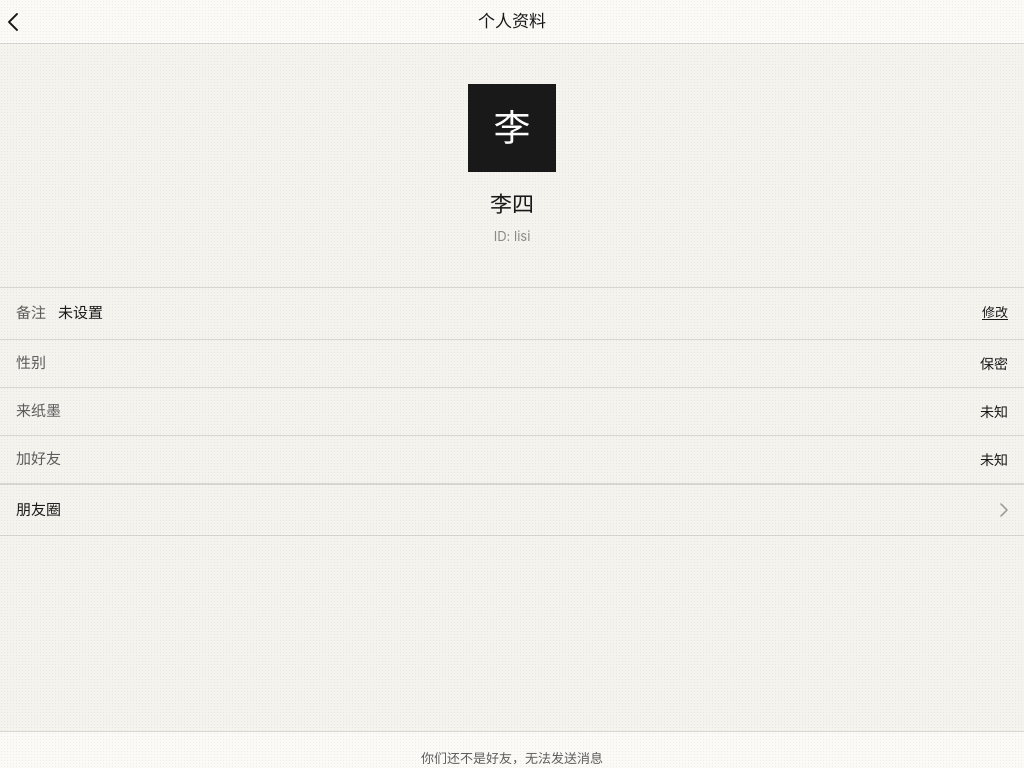
Test: FriendProfile 好友资料页 › 有应用内历史时返回按钮回到上一页(通讯录)
Check: the heading "李四" is shown, box [490,188,534,221]
Click the button named "返回" at (26, 22), box [8,4,44,40]
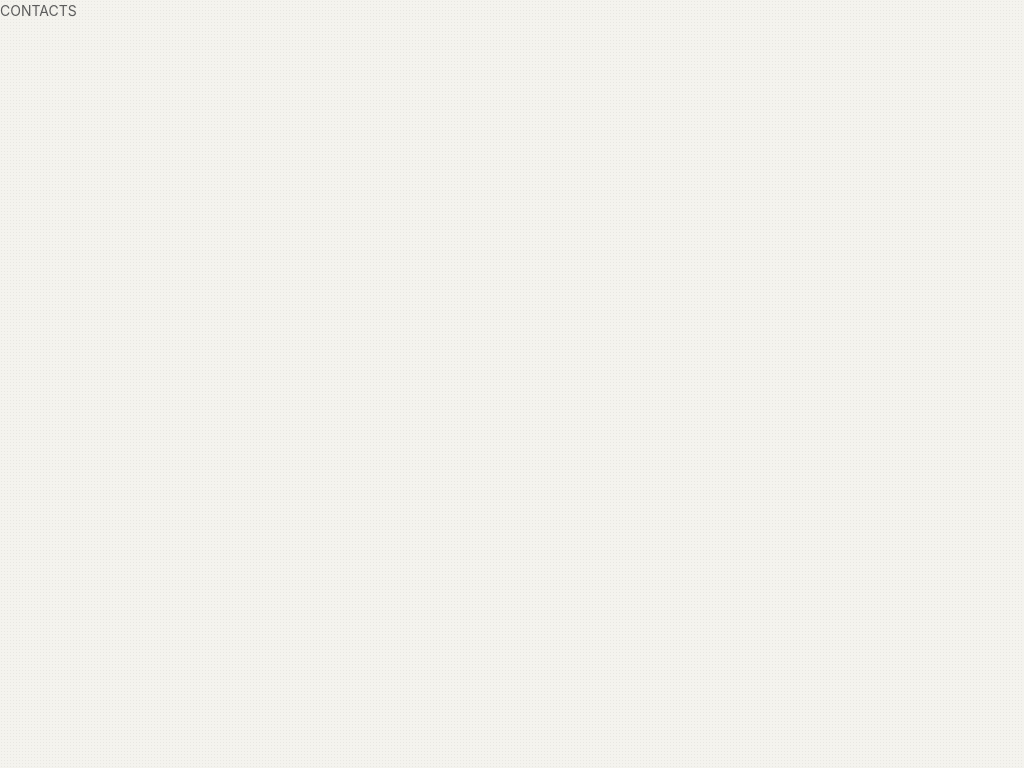
Check: the text "CONTACTS" is shown, box [0,2,77,19]
